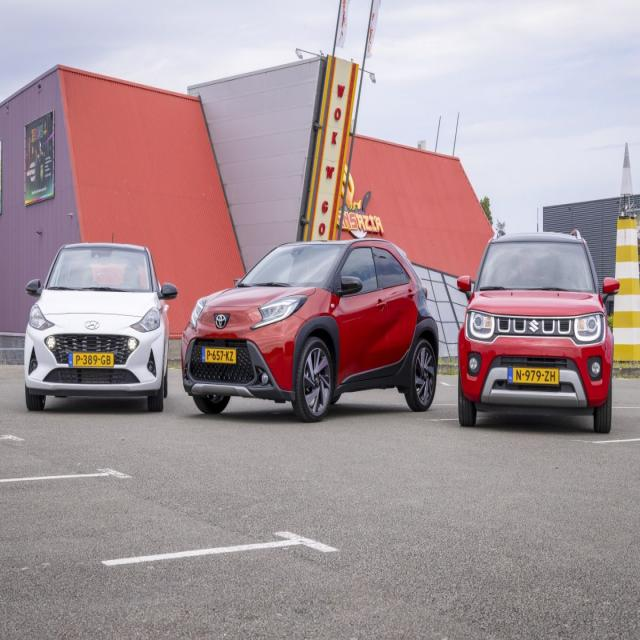car: (183, 238, 441, 432), (459, 222, 619, 450), (18, 238, 176, 412)
